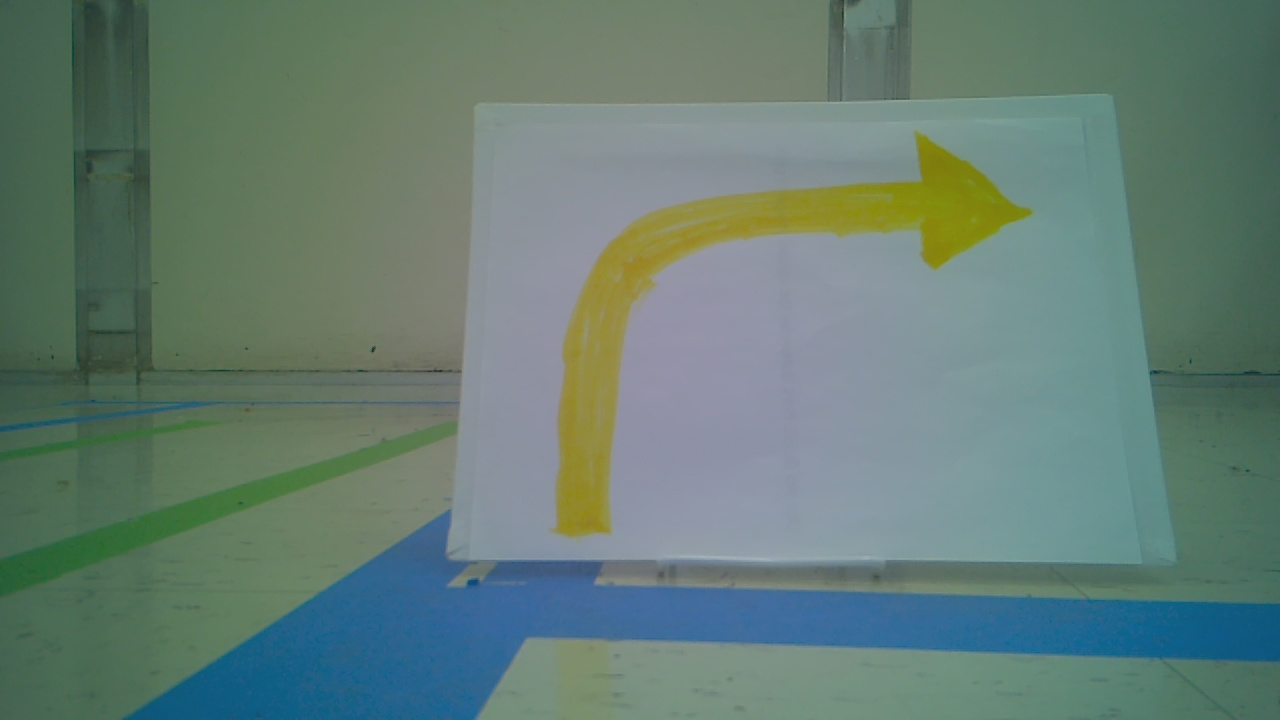greenline: (6, 415, 462, 599)
right: (551, 124, 1046, 532)
